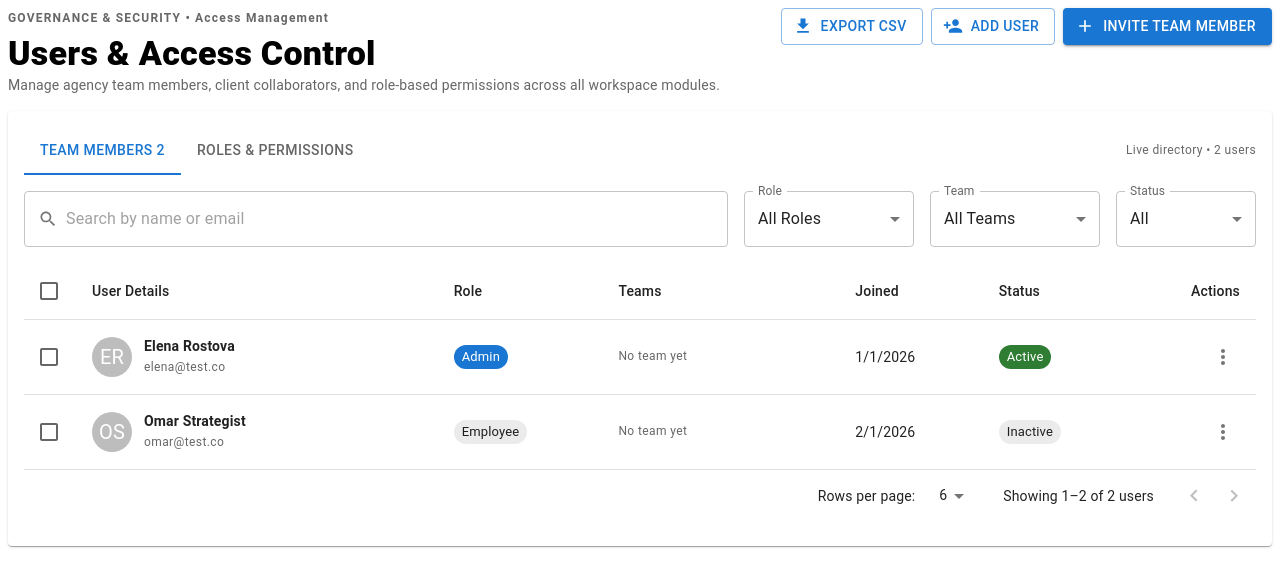
Test: UsersPage › filters users by search query
Expected: the text "Elena Rostova" is shown, [144, 336, 235, 356]
Type "omar" into the field named "search users" at (397, 219), box [66, 191, 728, 247]
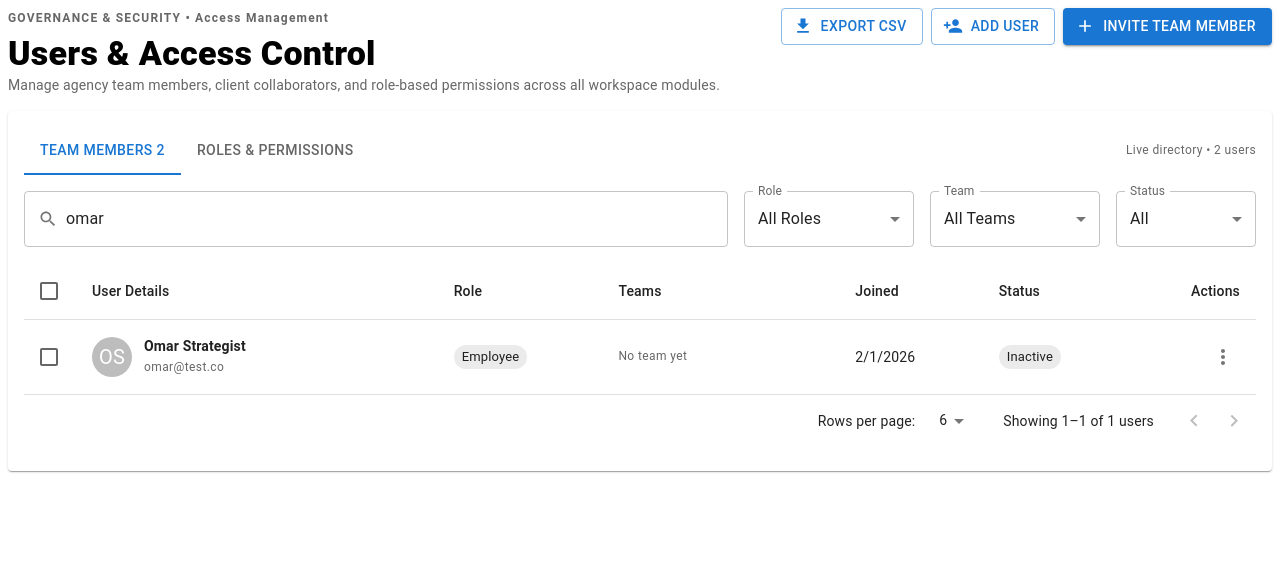
Expected: the text "Omar Strategist" is shown, [144, 336, 246, 356]
Expected: the text "Elena Rostova" is gone
